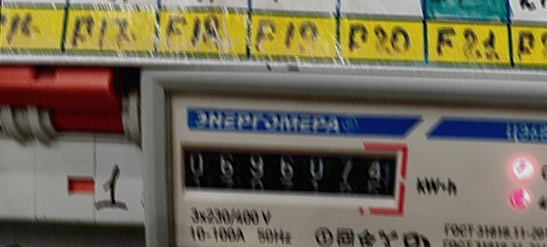0: (183, 149, 203, 174), (305, 152, 322, 178)
4: (363, 155, 380, 178)
5: (363, 180, 380, 196)
6: (276, 151, 294, 178), (215, 150, 233, 175)
7: (335, 155, 353, 181)
9: (245, 151, 262, 177)
screen: (166, 129, 409, 209)
